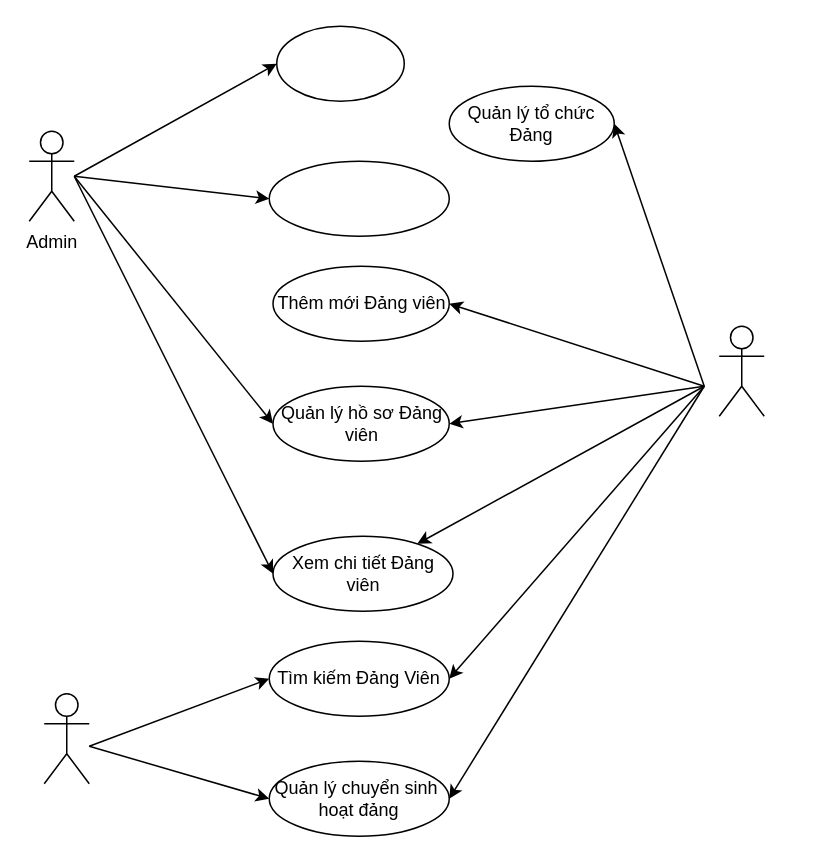
Some shapes in this 822 by 863 pixel diagram are drawn without their labels. Each missing label, with the centre of its shape:
"Quản lý hệ thống." goes at point (358, 198).
"Quản lý user" goes at point (339, 63).
"Tổ chức đảng" goes at point (741, 370).
"Đảng viên" goes at point (66, 738).
